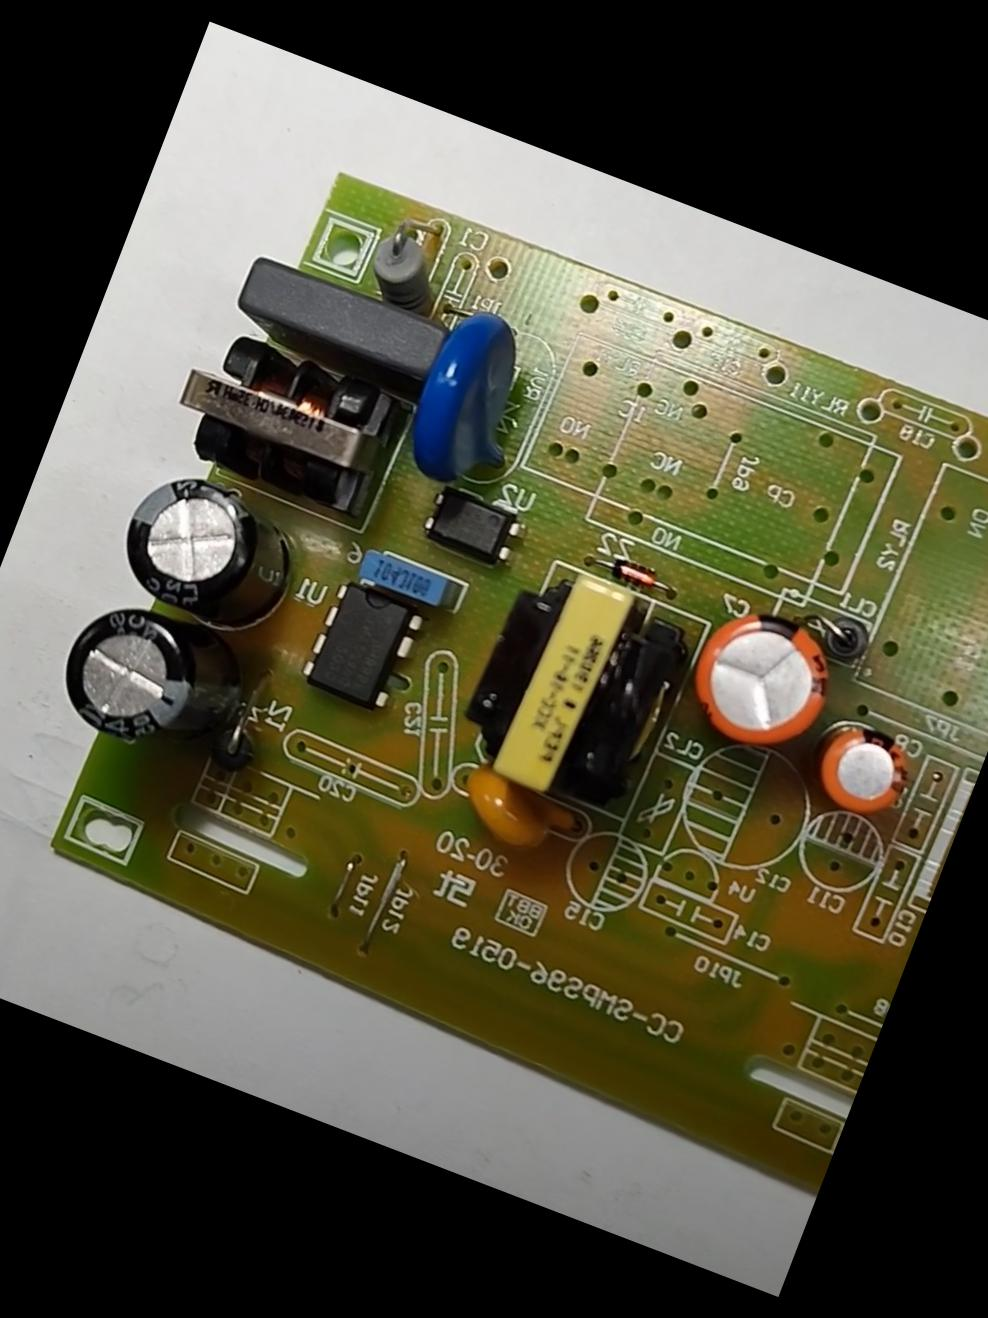Cap1: (674, 588, 858, 764)
Cap2: (808, 715, 924, 826)
Cap3: (103, 460, 320, 653)
Cap4: (47, 586, 264, 777)
MOSFET: (294, 574, 432, 721)
Mov: (391, 295, 555, 506)
Resistor: (354, 224, 461, 325)
Transformer: (445, 545, 708, 830), (162, 315, 412, 521)
